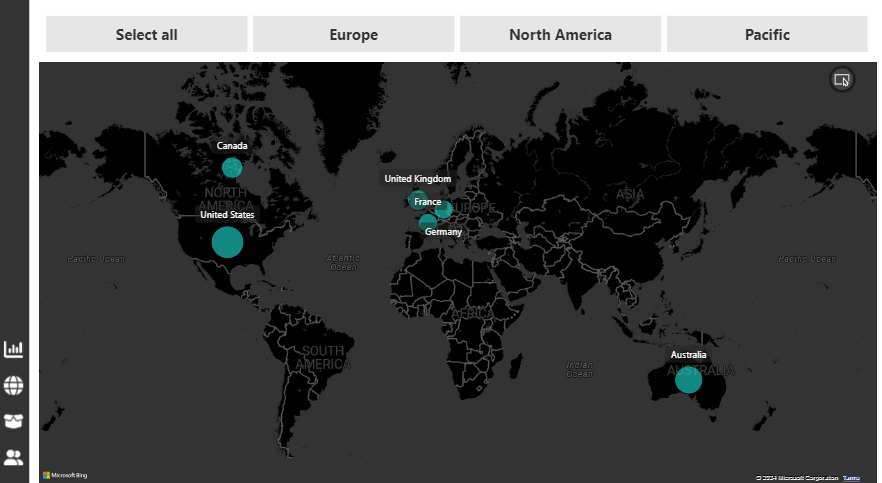

What the dashboard file says about the page in this screenshot:
{"tool":"powerbi","page":{"name":"Map","canvas":[1280,720],"ordinal":1},"visuals":[{"type":"shape","title":"Left Nav Background","box":[0,0,45,720],"z":0},{"type":"actionButton","box":[3.7,501.1,36.3,35.8],"z":0,"group":"g1"},{"type":"actionButton","box":[4,552.8,36.5,36],"z":1000,"group":"g1"},{"type":"map","fields":{"Category":["Territory Lookup.Country"],"Size":["Measure Table.Total Orders"]},"box":[54.3,101.4,1215.7,618.6],"z":1000},{"type":"slicer","fields":{"Values":["Territory Lookup.Continent"]},"box":[40.6,28.8,1239.4,72.4],"z":2000},{"type":"actionButton","box":[4,604.6,36.5,36],"z":2000,"group":"g1"},{"type":"actionButton","box":[4,656.5,36.5,36],"z":3000,"group":"g1"},{"type":"group","id":"g1","title":"Navigation Buttons","box":[3.7,501.1,36.7,191.4],"z":3000}]}

Visuals, with their boxes in screenshot pixels (x1, y1, x2, y2), scaled from the page's 1280x720 canvas onto the 882x483 screenshot:
"Left Nav Background" shape: [x1=0, y1=0, x2=31, y2=482]
actionButton: [x1=3, y1=336, x2=28, y2=360]
actionButton: [x1=3, y1=371, x2=28, y2=395]
map - Territory Lookup.Country x Measure Table.Total Orders: [x1=37, y1=68, x2=875, y2=482]
slicer - Territory Lookup.Continent: [x1=28, y1=19, x2=881, y2=68]
actionButton: [x1=3, y1=406, x2=28, y2=430]
actionButton: [x1=3, y1=440, x2=28, y2=465]
"Navigation Buttons" group: [x1=3, y1=336, x2=28, y2=465]
